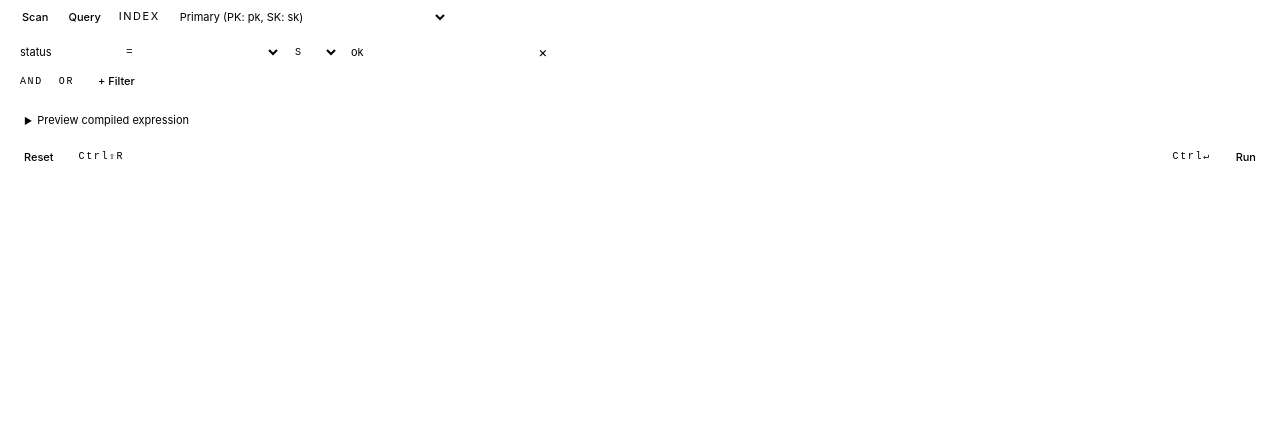
Test case: QueryBuilder › Preview disclosure › shows FilterExpression when a filter is present
Click the button with test id "preview-toggle" at (113, 120), box [12, 108, 1268, 132]
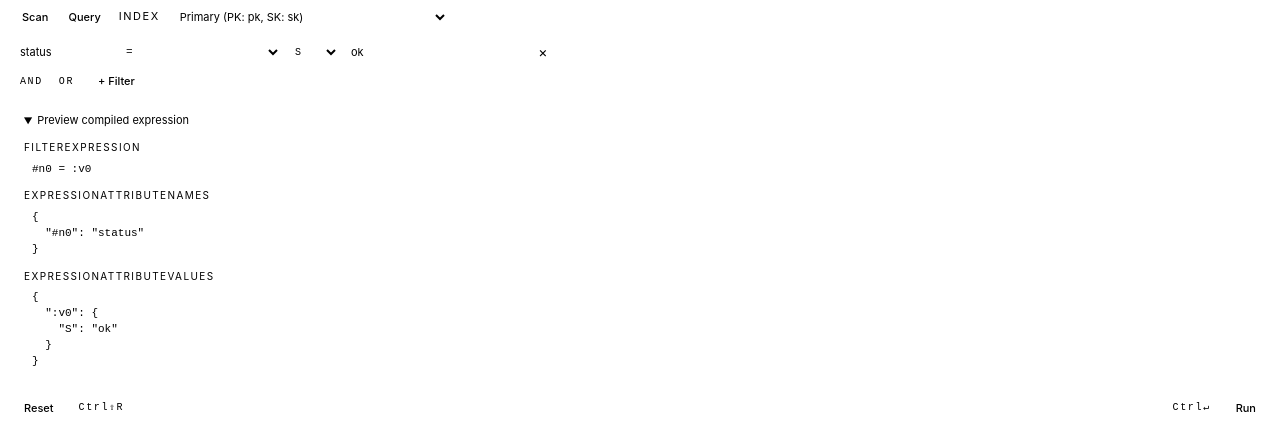
Now the text with test id "preview-fe" reads "#n0 = :v0", box [32, 162, 91, 174]
